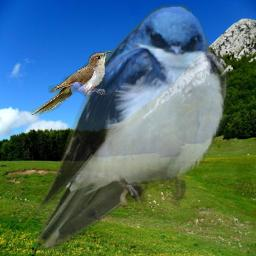Cuckoo: (30, 50, 112, 115)
Swallow: (29, 3, 230, 252)
